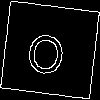O: (24, 25, 67, 76)
